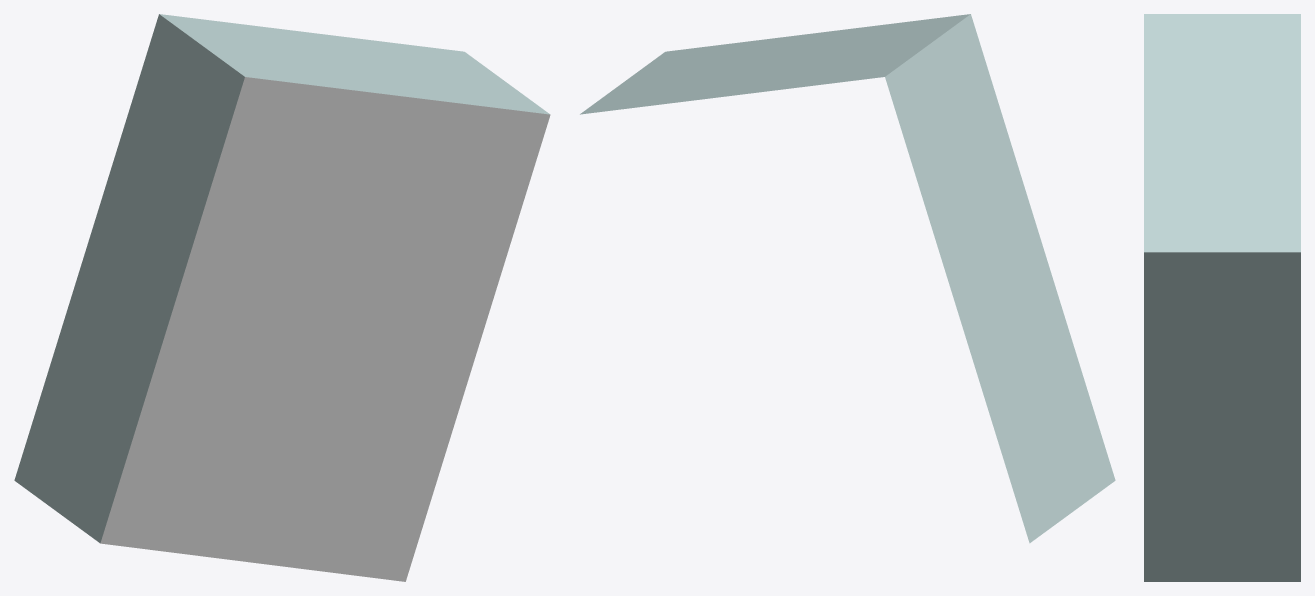
3 renders of one model, left to right at view 1: azimuth 30°, elevation 25°; view 2: azimuth 150°, elevation 25°; view 3: azimuth 270°, elevation 25°, orthographic. The views are drawn at different scales.
Visible parts, largest first — view 1: 0_3_1_2_3_3_2_2_3; view 2: 0_3_1_2_3_3_2_2_3; view 3: 0_3_1_2_3_3_2_2_3.
Part boxes in pixels (x1,y1,x2,y2): 0_3_1_2_3_3_2_2_3: (14, 14, 550, 581); 0_3_1_2_3_3_2_2_3: (580, 14, 1115, 543); 0_3_1_2_3_3_2_2_3: (1144, 14, 1300, 581).
Size of the model in its own units: 9.07 by 10.47 by 3.
